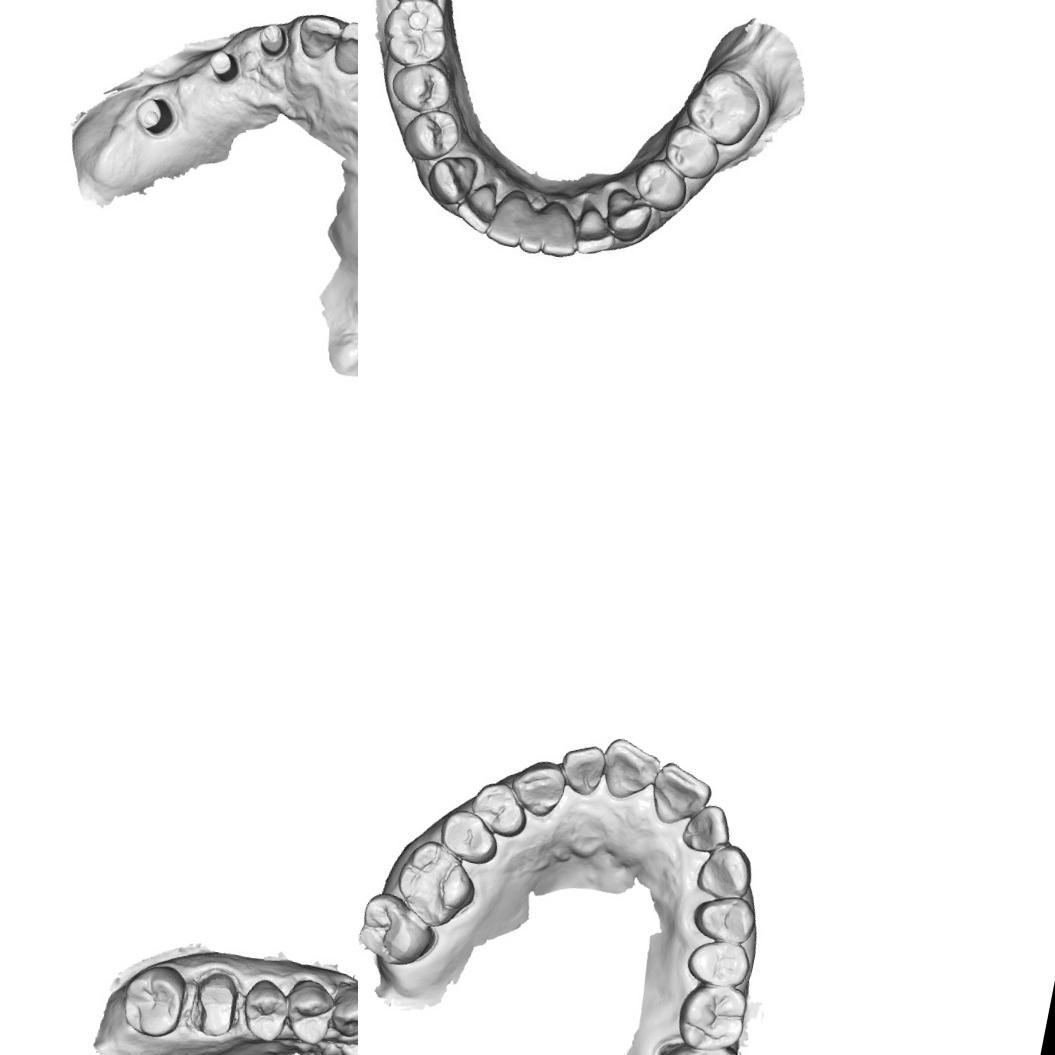abutment: (130, 92, 177, 138), (202, 45, 243, 86), (252, 18, 290, 58)
canine: (692, 838, 758, 904), (506, 755, 570, 820), (599, 186, 656, 246), (422, 149, 479, 209), (327, 980, 358, 1042)
crown: (186, 962, 246, 1042)
incisor: (594, 732, 666, 807), (646, 756, 717, 831), (554, 736, 608, 799), (678, 799, 734, 856), (483, 184, 529, 249), (538, 200, 585, 260), (293, 9, 344, 64), (452, 178, 500, 236), (572, 204, 620, 259), (328, 17, 358, 82), (516, 208, 548, 254)
molar: (388, 834, 482, 934), (680, 62, 766, 150), (358, 885, 445, 971), (116, 956, 191, 1042), (670, 977, 752, 1054), (375, 0, 453, 71), (648, 1035, 743, 1055)
premolar: (429, 804, 504, 868), (464, 775, 533, 841), (278, 974, 339, 1048), (688, 888, 760, 948), (386, 56, 456, 117), (682, 933, 754, 992), (397, 103, 463, 167), (237, 974, 293, 1045), (659, 121, 723, 182), (629, 154, 692, 215)
